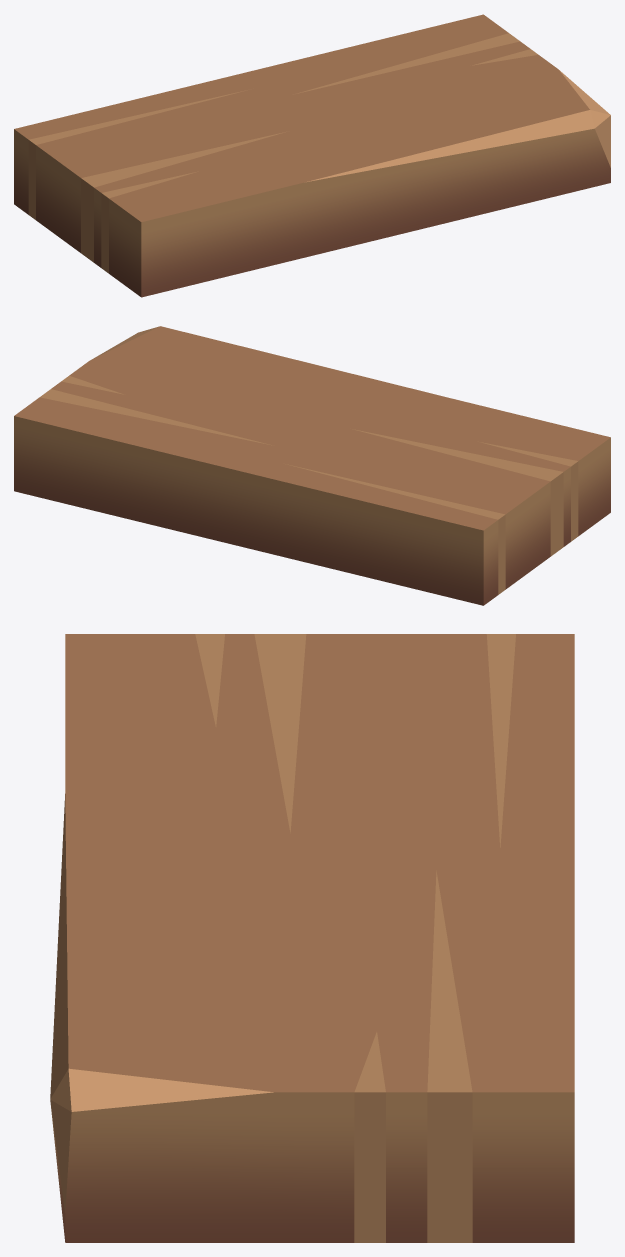
File: Boards.fbx
3 views of the same model, one above another, from view 1: azimuth 30°, elevation 25°; view 2: azimuth 150°, elevation 25°; view 3: azimuth 270°, elevation 25° (orthographic). The views are drawn at different scales.
Visible parts, largest first — view 1: Cube.008; view 2: Cube.008; view 3: Cube.008.
Boxes of the visible parts, <box> form: Cube.008: <box>14,14,610,297</box>; Cube.008: <box>14,326,610,605</box>; Cube.008: <box>50,634,574,1242</box>.
Bounding box in the file's own units: 1.34 × 0.6454 × 0.2102.
